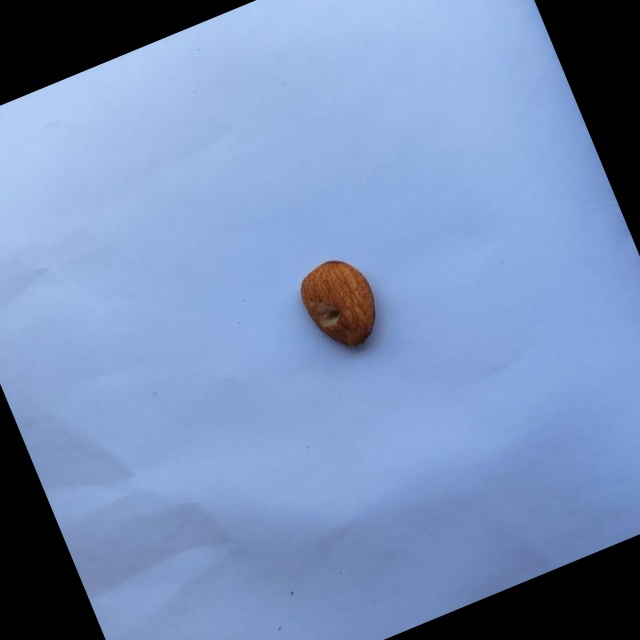grade3: (286, 246, 393, 365)
